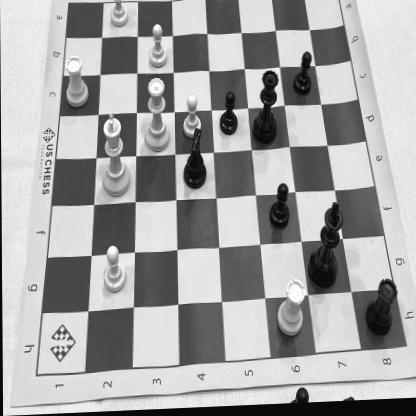black-king: (308, 202, 342, 292)
black-knight: (181, 128, 209, 192)
black-pawn: (268, 184, 292, 230), (291, 52, 314, 99), (218, 93, 238, 139)
black-queen: (251, 68, 280, 147)
black-rook: (366, 278, 398, 341)
white-king: (100, 111, 130, 201)
white-pawn: (100, 242, 126, 296), (146, 23, 169, 72), (181, 95, 202, 141), (109, 0, 130, 31)
white-queen: (142, 76, 172, 154)
white-rook: (274, 279, 306, 341), (61, 53, 90, 110)
